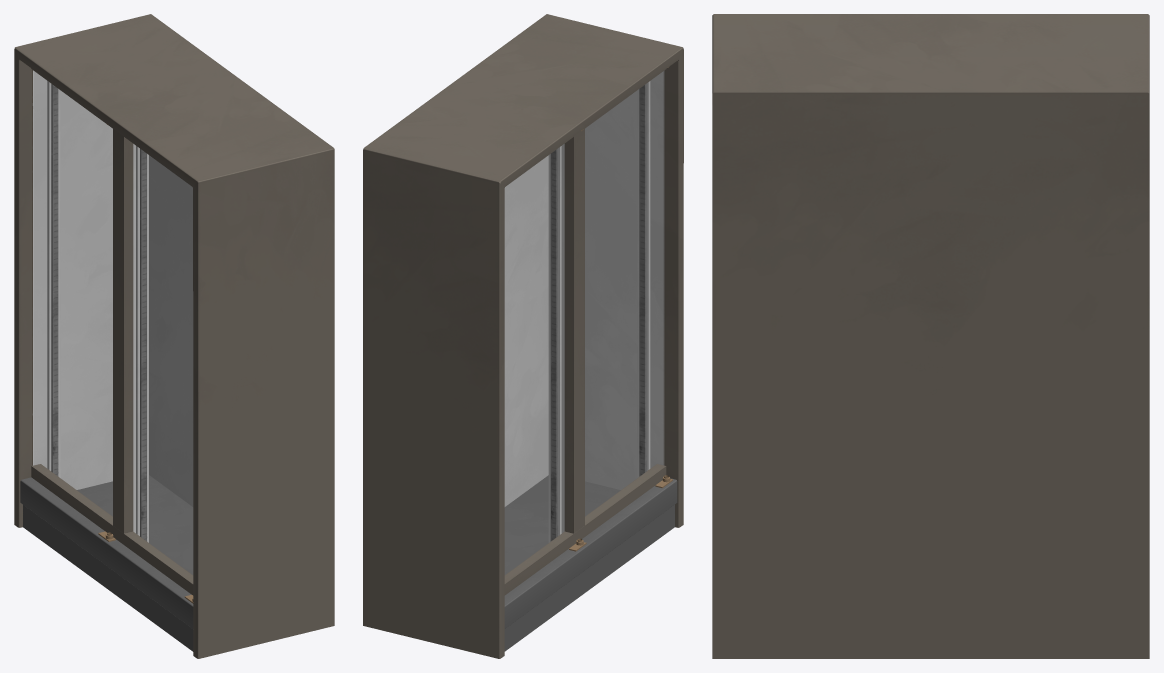
The model's file is SM_Freezer_02_Empty.fbx.
3 renders of one model, left to right at view 1: azimuth 30°, elevation 25°; view 2: azimuth 150°, elevation 25°; view 3: azimuth 270°, elevation 25°, orthographic. The views are drawn at different scales.
Parts seen in each view (by area): view 1: SM_Freezer_02_Empty_LOD0; view 2: SM_Freezer_02_Empty_LOD0; view 3: SM_Freezer_02_Empty_LOD0.
Boxes of the visible parts, x1,y1,x2,y2 form: SM_Freezer_02_Empty_LOD0: (14,14,334,658); SM_Freezer_02_Empty_LOD0: (363,14,683,658); SM_Freezer_02_Empty_LOD0: (712,14,1149,658).
Size of the model in its own units: 60 by 140 by 200.
